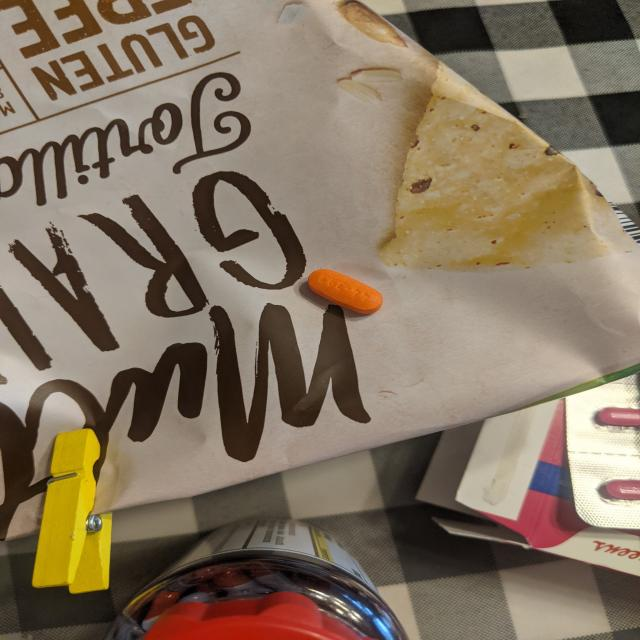non-organic waste: (307, 268, 384, 315)
